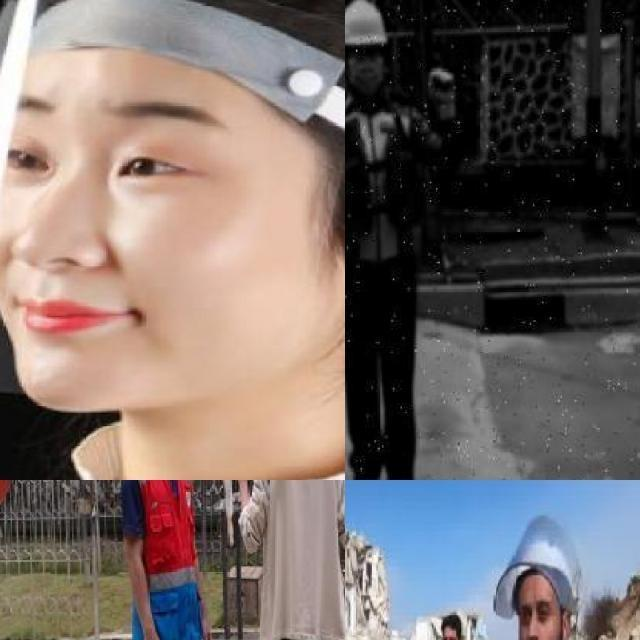apron: (426, 67, 461, 123)
